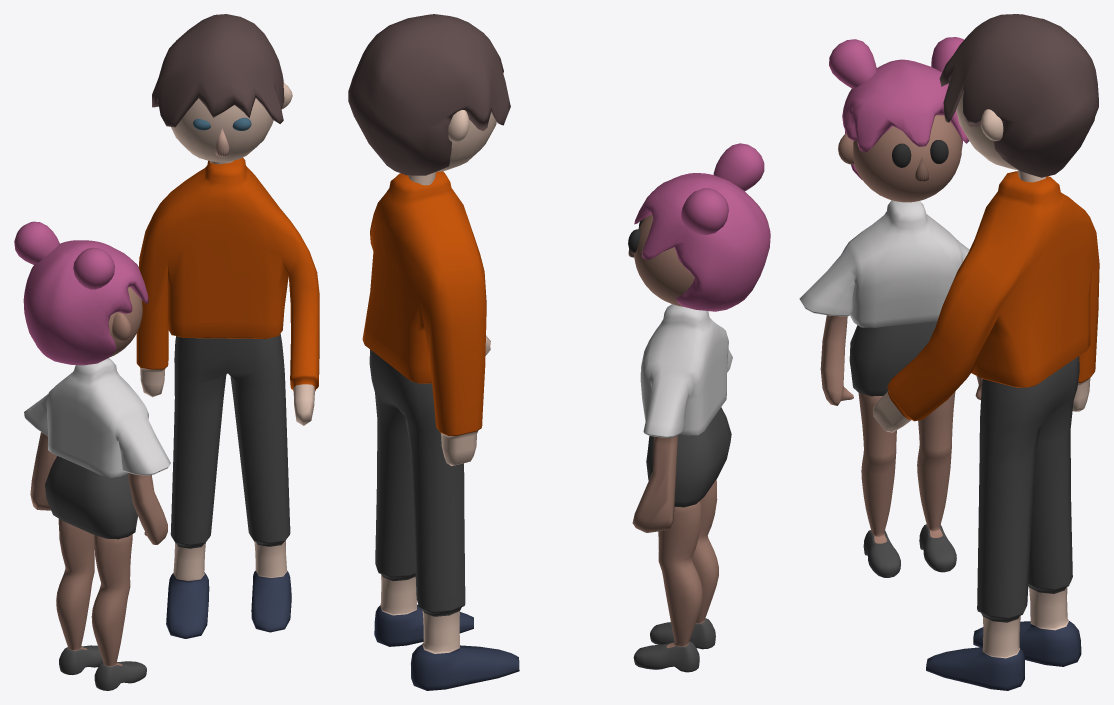
The model's file is TalkingNPCS.fbx.
3 views of the same model, side by side, from view 1: azimuth 30°, elevation 25°; view 2: azimuth 150°, elevation 25°; view 3: azimuth 270°, elevation 25° (orthographic). The views are drawn at different scales.
Parts seen in each view (by area): view 1: pCube29, pCube30, pCube32, polySurface39, polySurface51, pCube31; view 2: pCube30, pCube29, polySurface39, polySurface51, pCube32, pCube31; view 3: pCube29, pCube30, polySurface39, polySurface51, pCube31, pCube32.
Part boxes in pixels (x1,y1,x2,y2): pCube29: [136, 157, 319, 425]; pCube30: [166, 334, 291, 638]; pCube32: [45, 456, 146, 690]; polySurface39: [152, 14, 292, 164]; polySurface51: [14, 221, 148, 365]; pCube31: [24, 358, 170, 544]; pCube30: [369, 349, 519, 690]; pCube29: [362, 171, 490, 465]; polySurface39: [348, 14, 510, 185]; polySurface51: [628, 143, 770, 311]; pCube32: [633, 407, 731, 672]; pCube31: [632, 304, 732, 532]; pCube29: [873, 171, 1099, 432]; pCube30: [926, 356, 1081, 690]; polySurface39: [939, 14, 1098, 182]; polySurface51: [829, 37, 969, 202]; pCube31: [799, 200, 982, 405]; pCube32: [849, 321, 956, 577].
Bounding box in the file's own units: 23.36 × 41.61 × 17.39.
